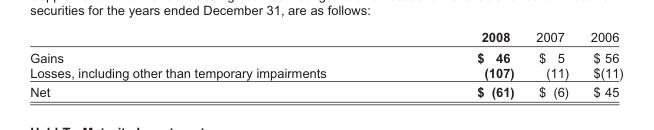table: (29, 28, 622, 99)
table column: (29, 28, 401, 99), (401, 28, 524, 99), (524, 28, 578, 99), (578, 28, 622, 99)
table column header: (29, 28, 622, 46)
table row: (29, 28, 622, 46), (29, 46, 622, 64), (29, 81, 622, 99), (29, 64, 622, 81)
